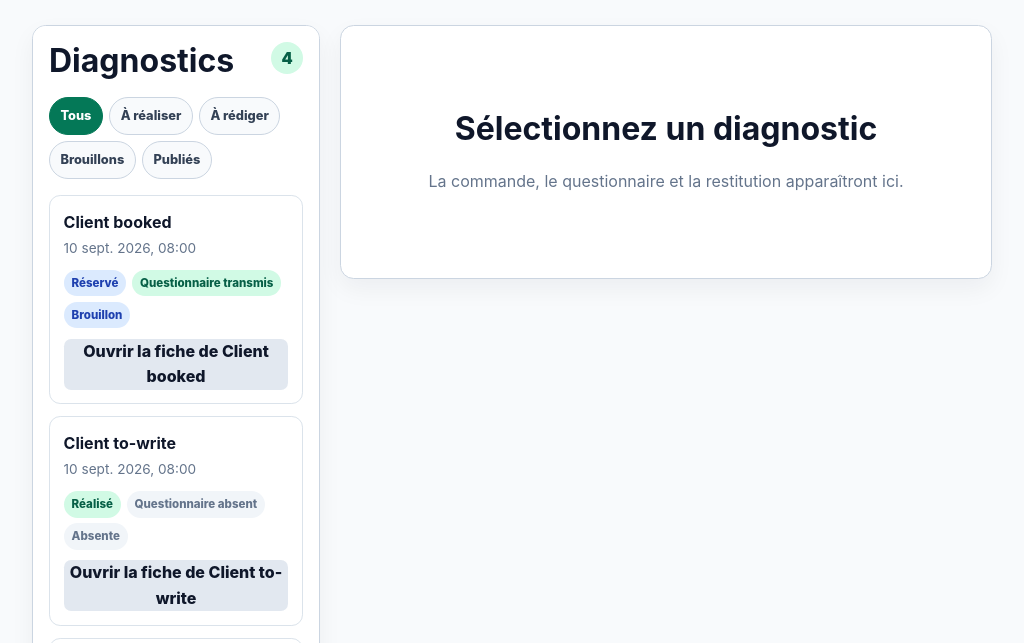
administration des Diagnostics IA et restitutions › interdit la publication tant que le booking n’est pas completed
Step 1. Click the button "Ouvrir la fiche de Client booked" → (176, 364), box [64,339,288,390]
(page scrolled)
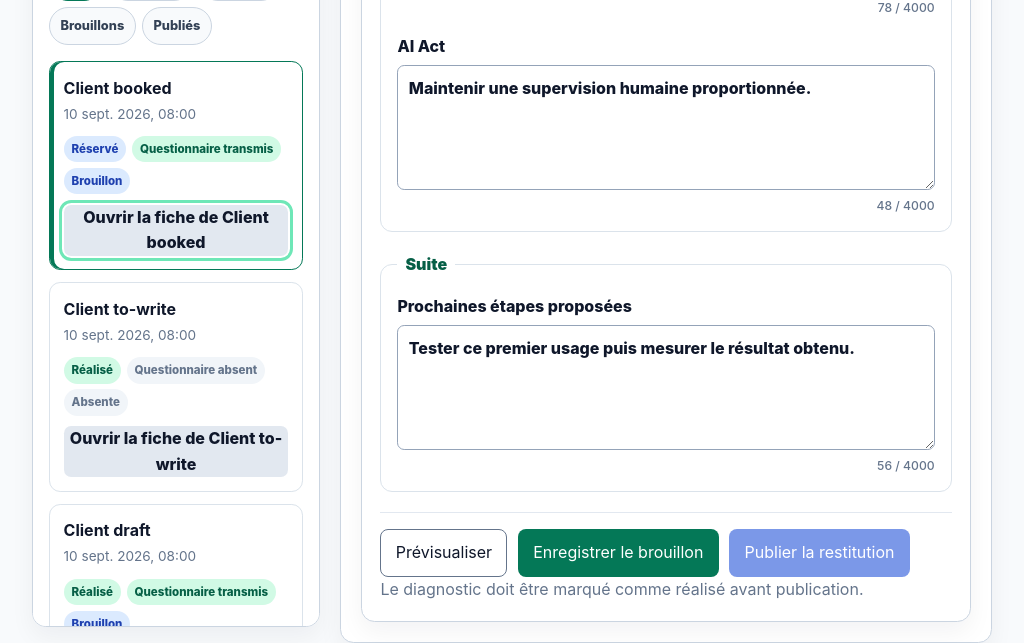
Expected: the button "Publier la restitution" is disabled, [729,529,910,578]
Expected: the text "Le diagnostic doit être marqué comme réalisé avant publication." is shown, [380,580,864,600]
